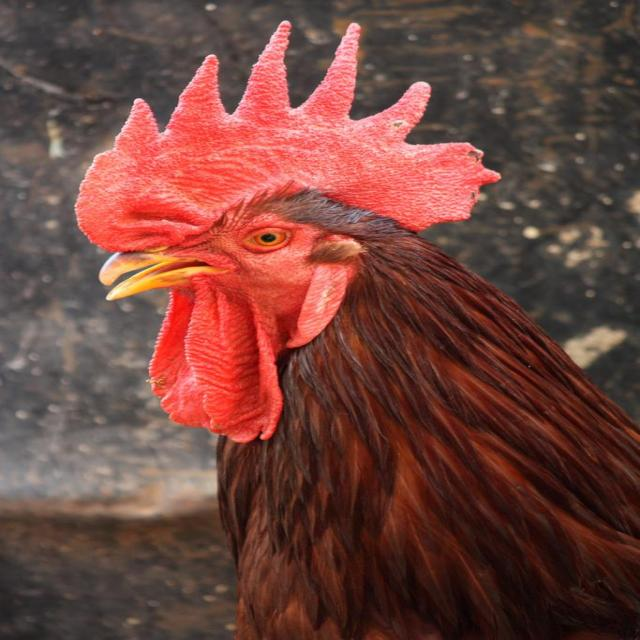Chicken: (74, 20, 640, 640)
